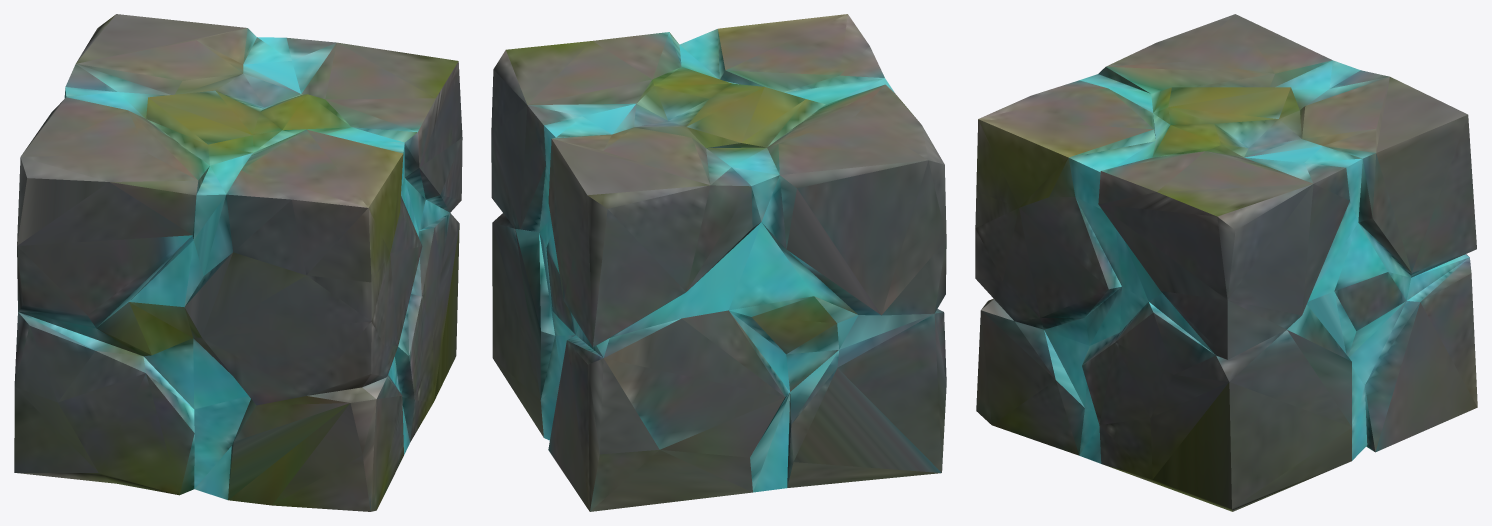
File: bloque_enlace_400.glb
3 views of the same model, side by side, from view 1: azimuth 30°, elevation 25°; view 2: azimuth 150°, elevation 25°; view 3: azimuth 270°, elevation 25° (orthographic). The views are drawn at different scales.
Visible parts, largest first — view 1: bloque_enlace_malla; view 2: bloque_enlace_malla; view 3: bloque_enlace_malla.
Boxes of the visible parts, left/top/right/bottom form: bloque_enlace_malla: left=14, top=14, right=462, bottom=511; bloque_enlace_malla: left=491, top=14, right=946, bottom=511; bloque_enlace_malla: left=975, top=14, right=1477, bottom=511.
Bounding box in the file's own units: 0.324 × 0.2193 × 0.3265.
Materials: 1 (1 with a texture image).
